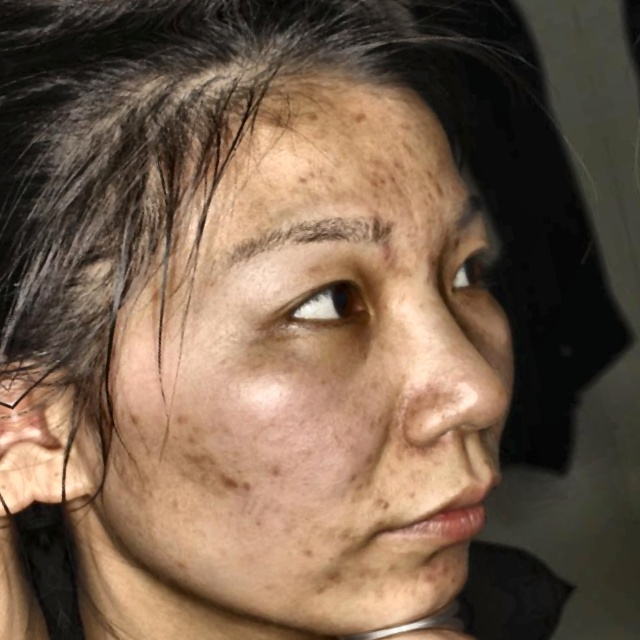comedone: (411, 557, 460, 596), (372, 235, 409, 274), (214, 467, 248, 496)
